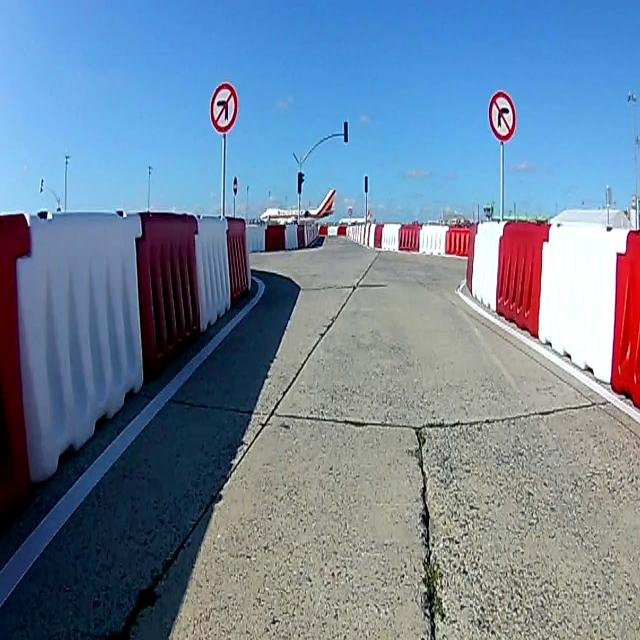sagadonulmez: (488, 92, 518, 142)
soladonulmez: (209, 83, 239, 130)
